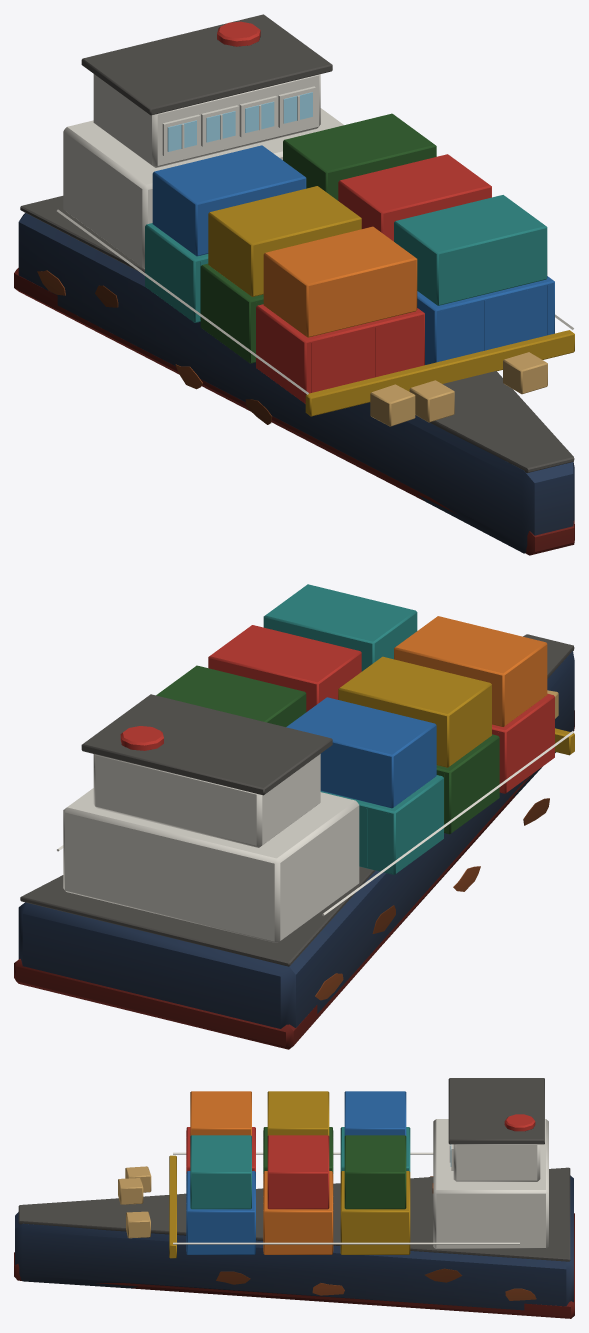
The model's file is 188_bateau_cargo.fbx.
3 renders of one model, top to bottom at view 1: azimuth 30°, elevation 25°; view 2: azimuth 150°, elevation 25°; view 3: azimuth 270°, elevation 25°, orthographic. The views are drawn at different scales.
Parts seen in each view (by area): view 1: Cargaison, Coque, Cabine; view 2: Cargaison, Cabine, Coque; view 3: Coque, Cargaison, Cabine.
Boxes of the visible parts, left/top/right/bottom form: Cargaison: left=145, top=113, right=554, bottom=426; Coque: left=14, top=196, right=574, bottom=555; Cabine: left=63, top=14, right=343, bottom=268; Cargaison: left=156, top=584, right=558, bottom=874; Cabine: left=63, top=694, right=359, bottom=942; Coque: left=14, top=634, right=574, bottom=1049; Coque: left=14, top=1152, right=574, bottom=1318; Cargaison: left=118, top=1091, right=410, bottom=1254; Cabine: left=432, top=1078, right=548, bottom=1248.
Size of the model in its own units: 3.36 by 2.8 by 8.4.
1 material, 1 textured.
